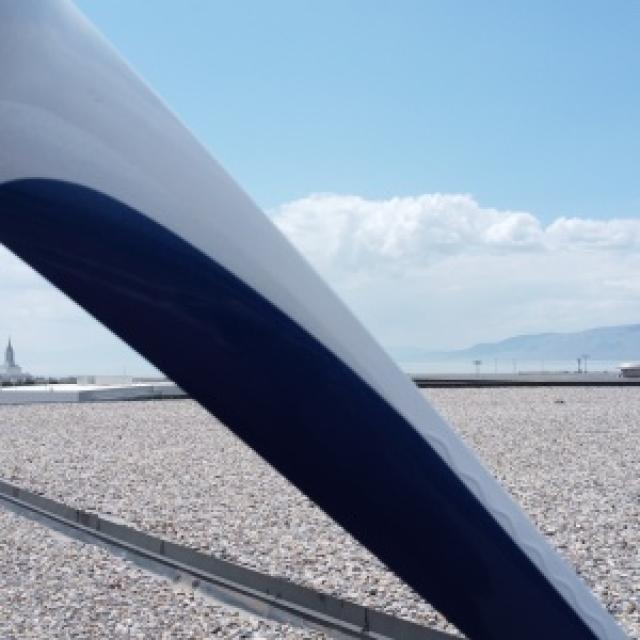healthy: (0, 0, 625, 638)
